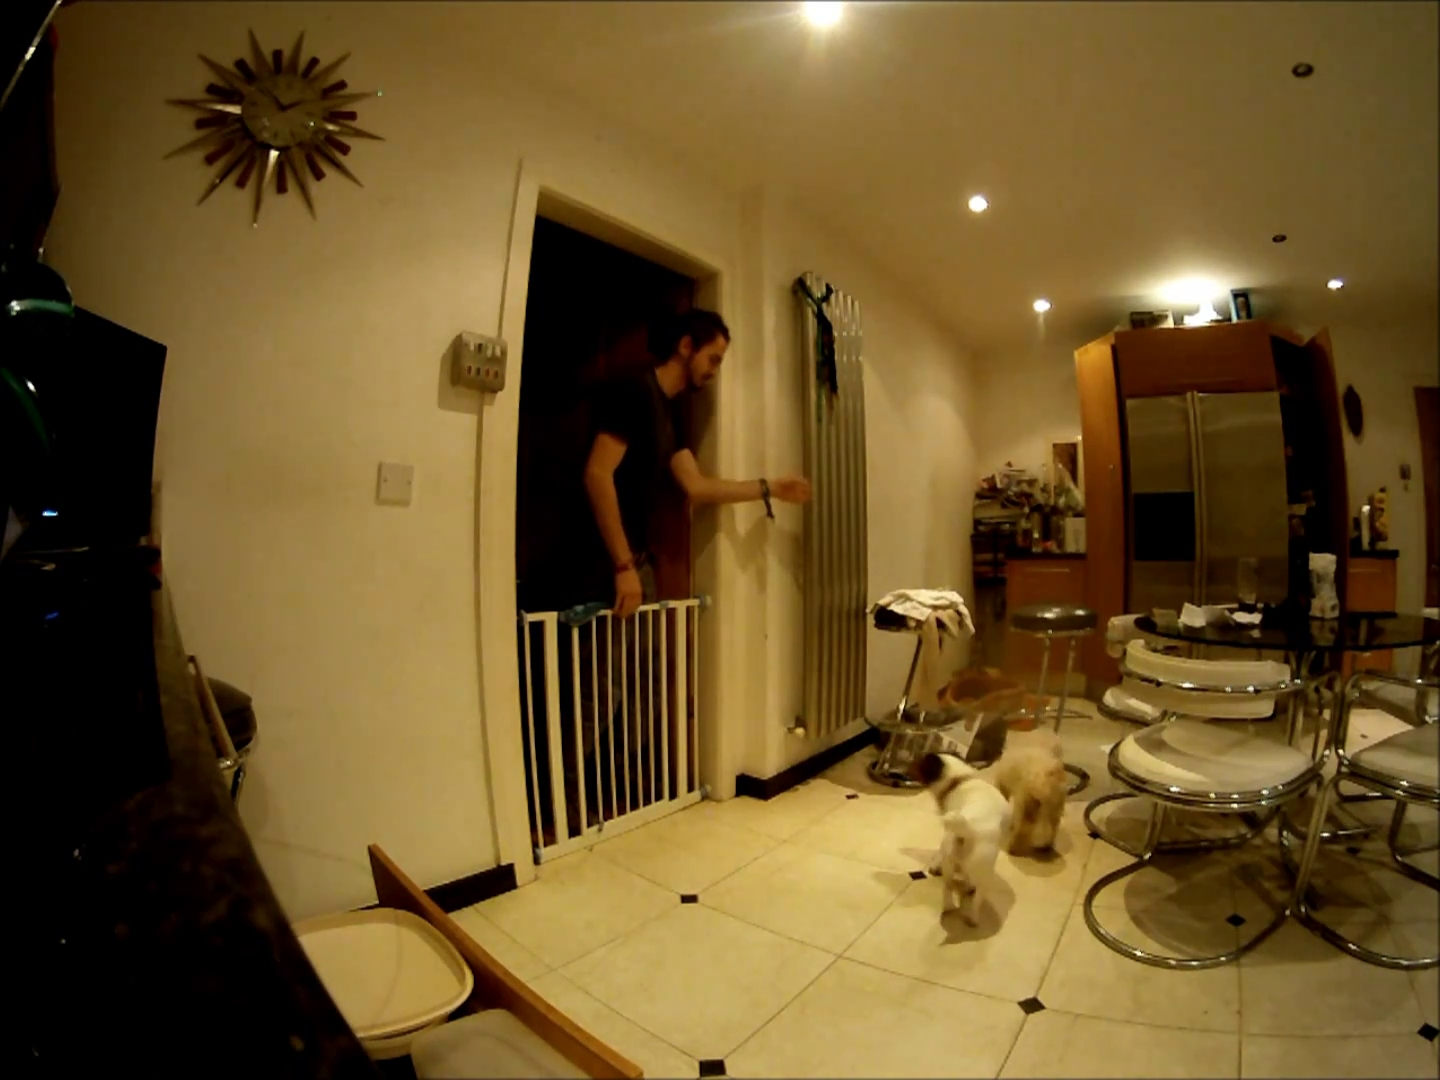person: (533, 311, 813, 616)
